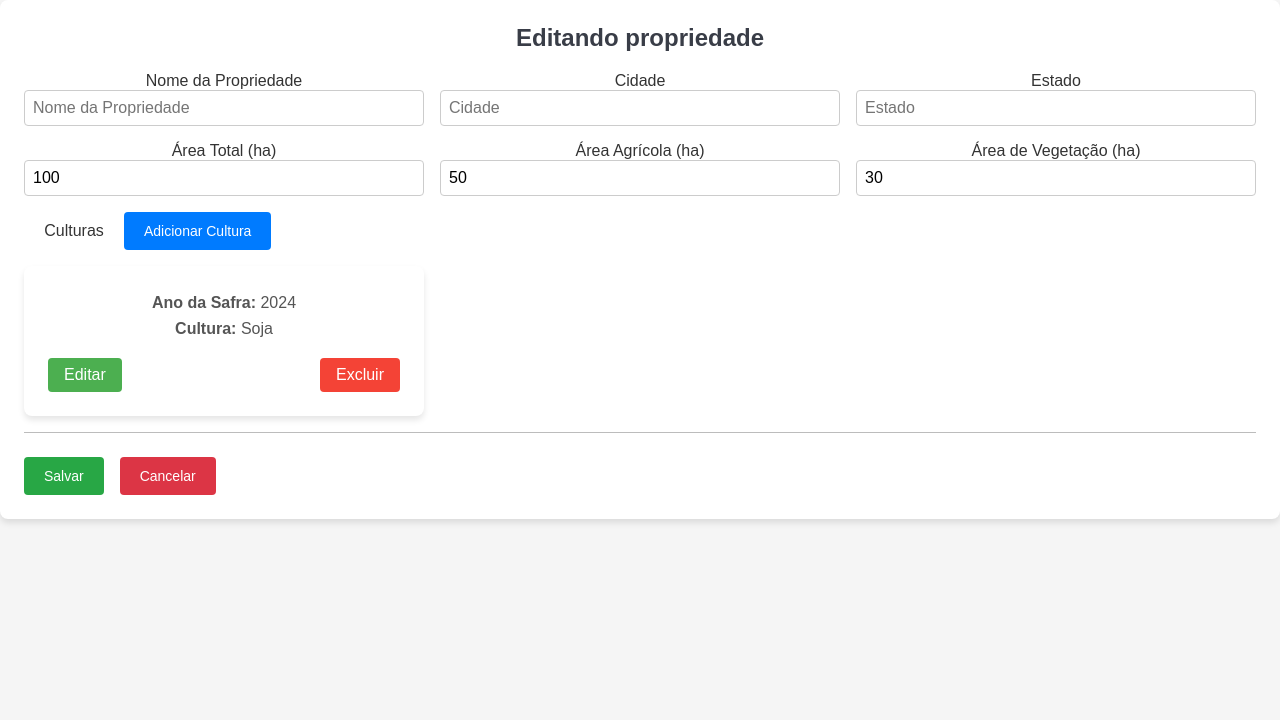
Test case: Formulário de Edição de Propriedade › deve permitir excluir uma cultura
Click the button "Excluir" at (360, 375), box [320, 358, 400, 392]
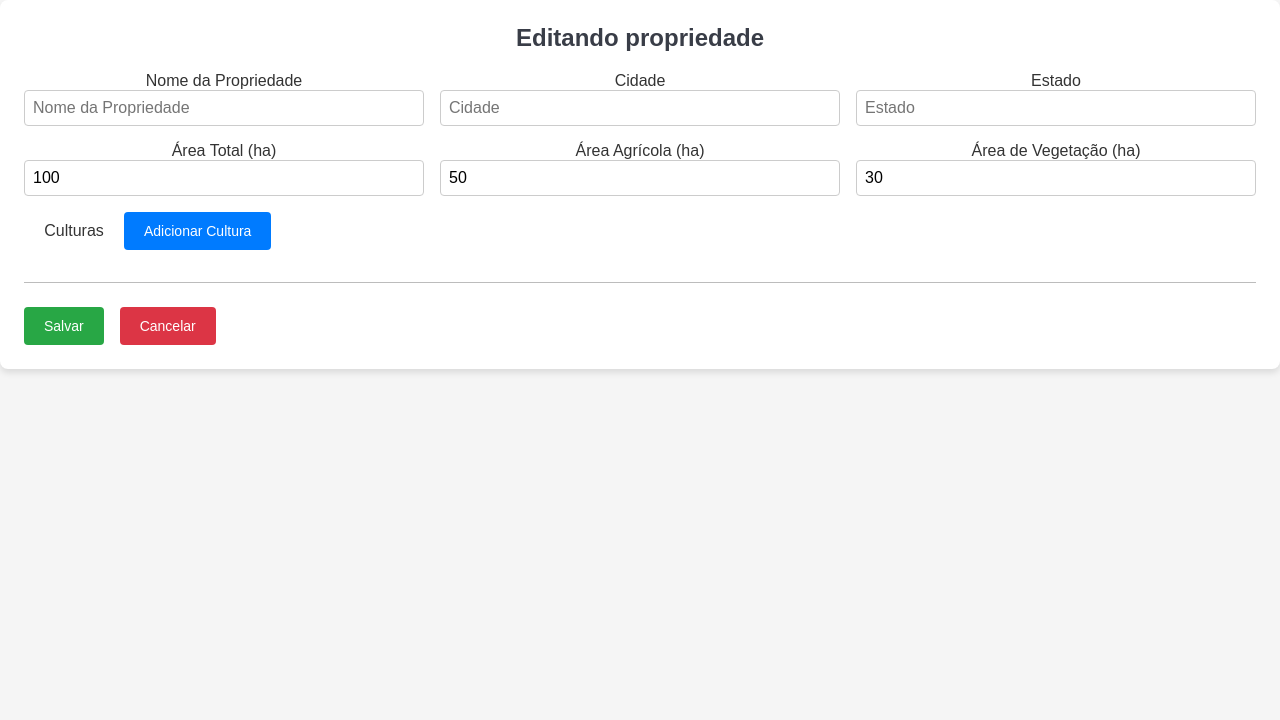
Result: the text "Soja" is gone
